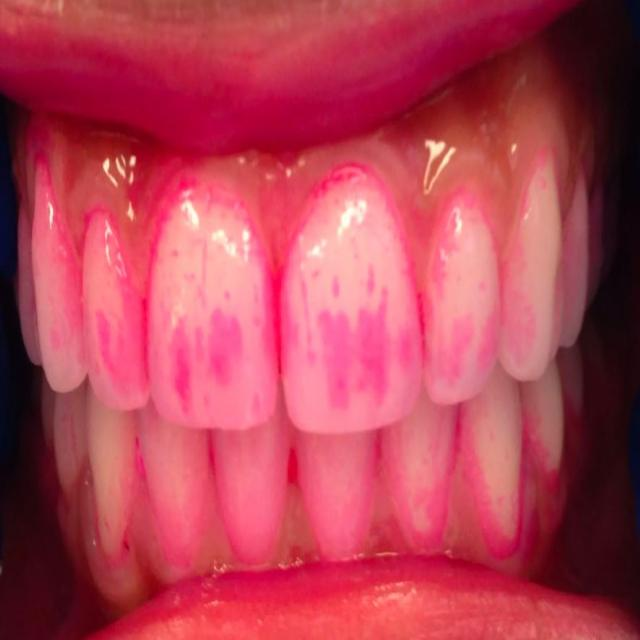1st Molar: (605, 191, 624, 270)
1st Premolar: (560, 176, 589, 348), (524, 365, 563, 481), (17, 212, 40, 366), (54, 395, 85, 495)
2nd Premolar: (589, 183, 607, 310), (562, 353, 584, 413), (40, 383, 54, 440)
Canine: (498, 159, 561, 383), (31, 161, 86, 394), (460, 376, 522, 552), (87, 401, 138, 560)
Central Incisor: (280, 169, 423, 436), (147, 191, 277, 431), (211, 423, 290, 567), (296, 436, 376, 560)
Lateral Incisor: (425, 192, 501, 408), (82, 211, 150, 413), (138, 407, 217, 568), (380, 404, 456, 555)
